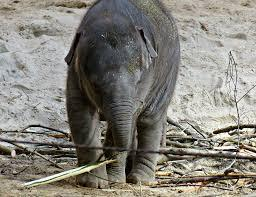elephant: (65, 0, 179, 150), (76, 148, 157, 187)
